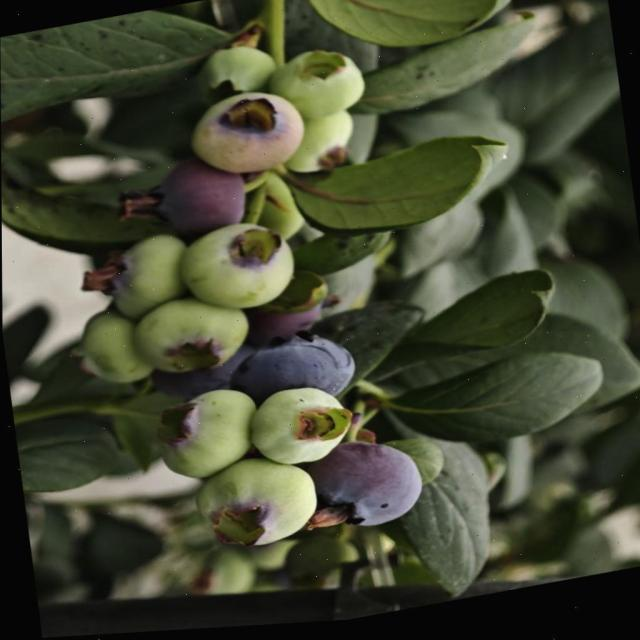RipeBlueBerry: (301, 431, 430, 544), (227, 325, 360, 415)
Semi-RipeBlueBerry: (144, 151, 250, 245)
UnripeBlueBerry: (188, 449, 324, 561), (123, 287, 256, 389), (177, 212, 299, 322), (186, 80, 311, 186), (151, 383, 261, 488), (242, 380, 354, 478)
